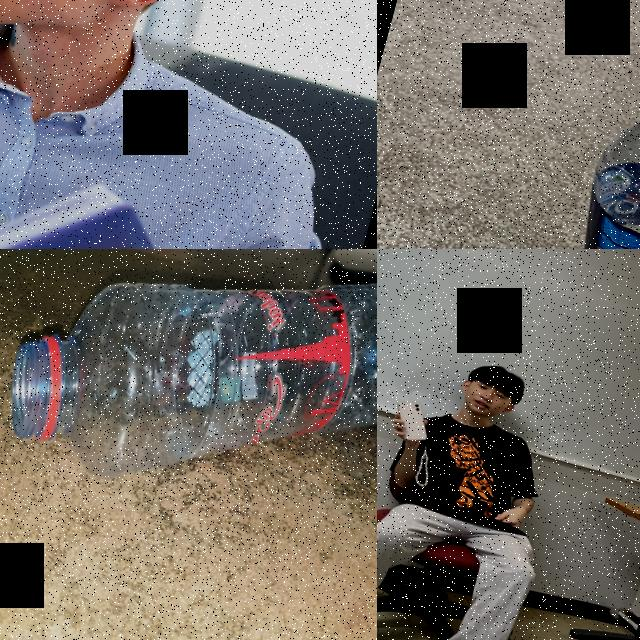bottle: (0, 249, 377, 550), (539, 45, 640, 249)
